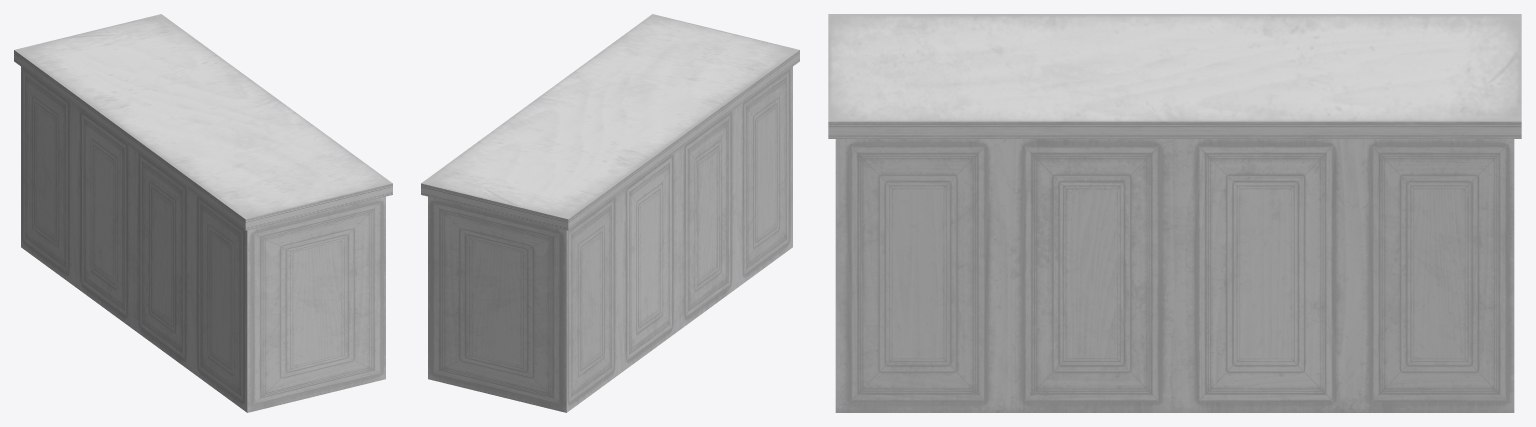
The model's file is Shelf.fbx.
3 views of the same model, side by side, from view 1: azimuth 30°, elevation 25°; view 2: azimuth 150°, elevation 25°; view 3: azimuth 270°, elevation 25° (orthographic). The views are drawn at different scales.
Parts seen in each view (by area): view 1: Self; view 2: Self; view 3: Self.
Boxes of the visible parts, bbox=[...] form: Self: bbox=[14, 14, 392, 412]; Self: bbox=[421, 14, 799, 412]; Self: bbox=[828, 14, 1521, 412].
Size of the model in its own units: 8.87 by 11.3 by 24.13.
1 material, 1 textured.
